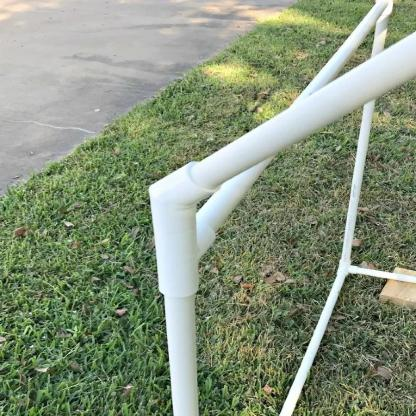PVC: (148, 30, 415, 416), (278, 3, 415, 414), (193, 1, 393, 260)
